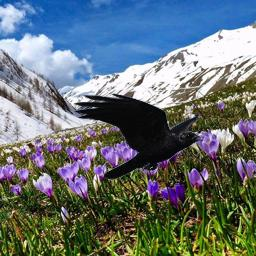Crow: (73, 92, 205, 180)
